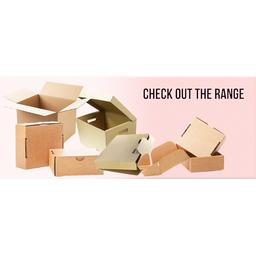cardboard: (73, 95, 151, 160), (7, 117, 72, 174), (168, 114, 235, 159), (163, 84, 164, 84)
